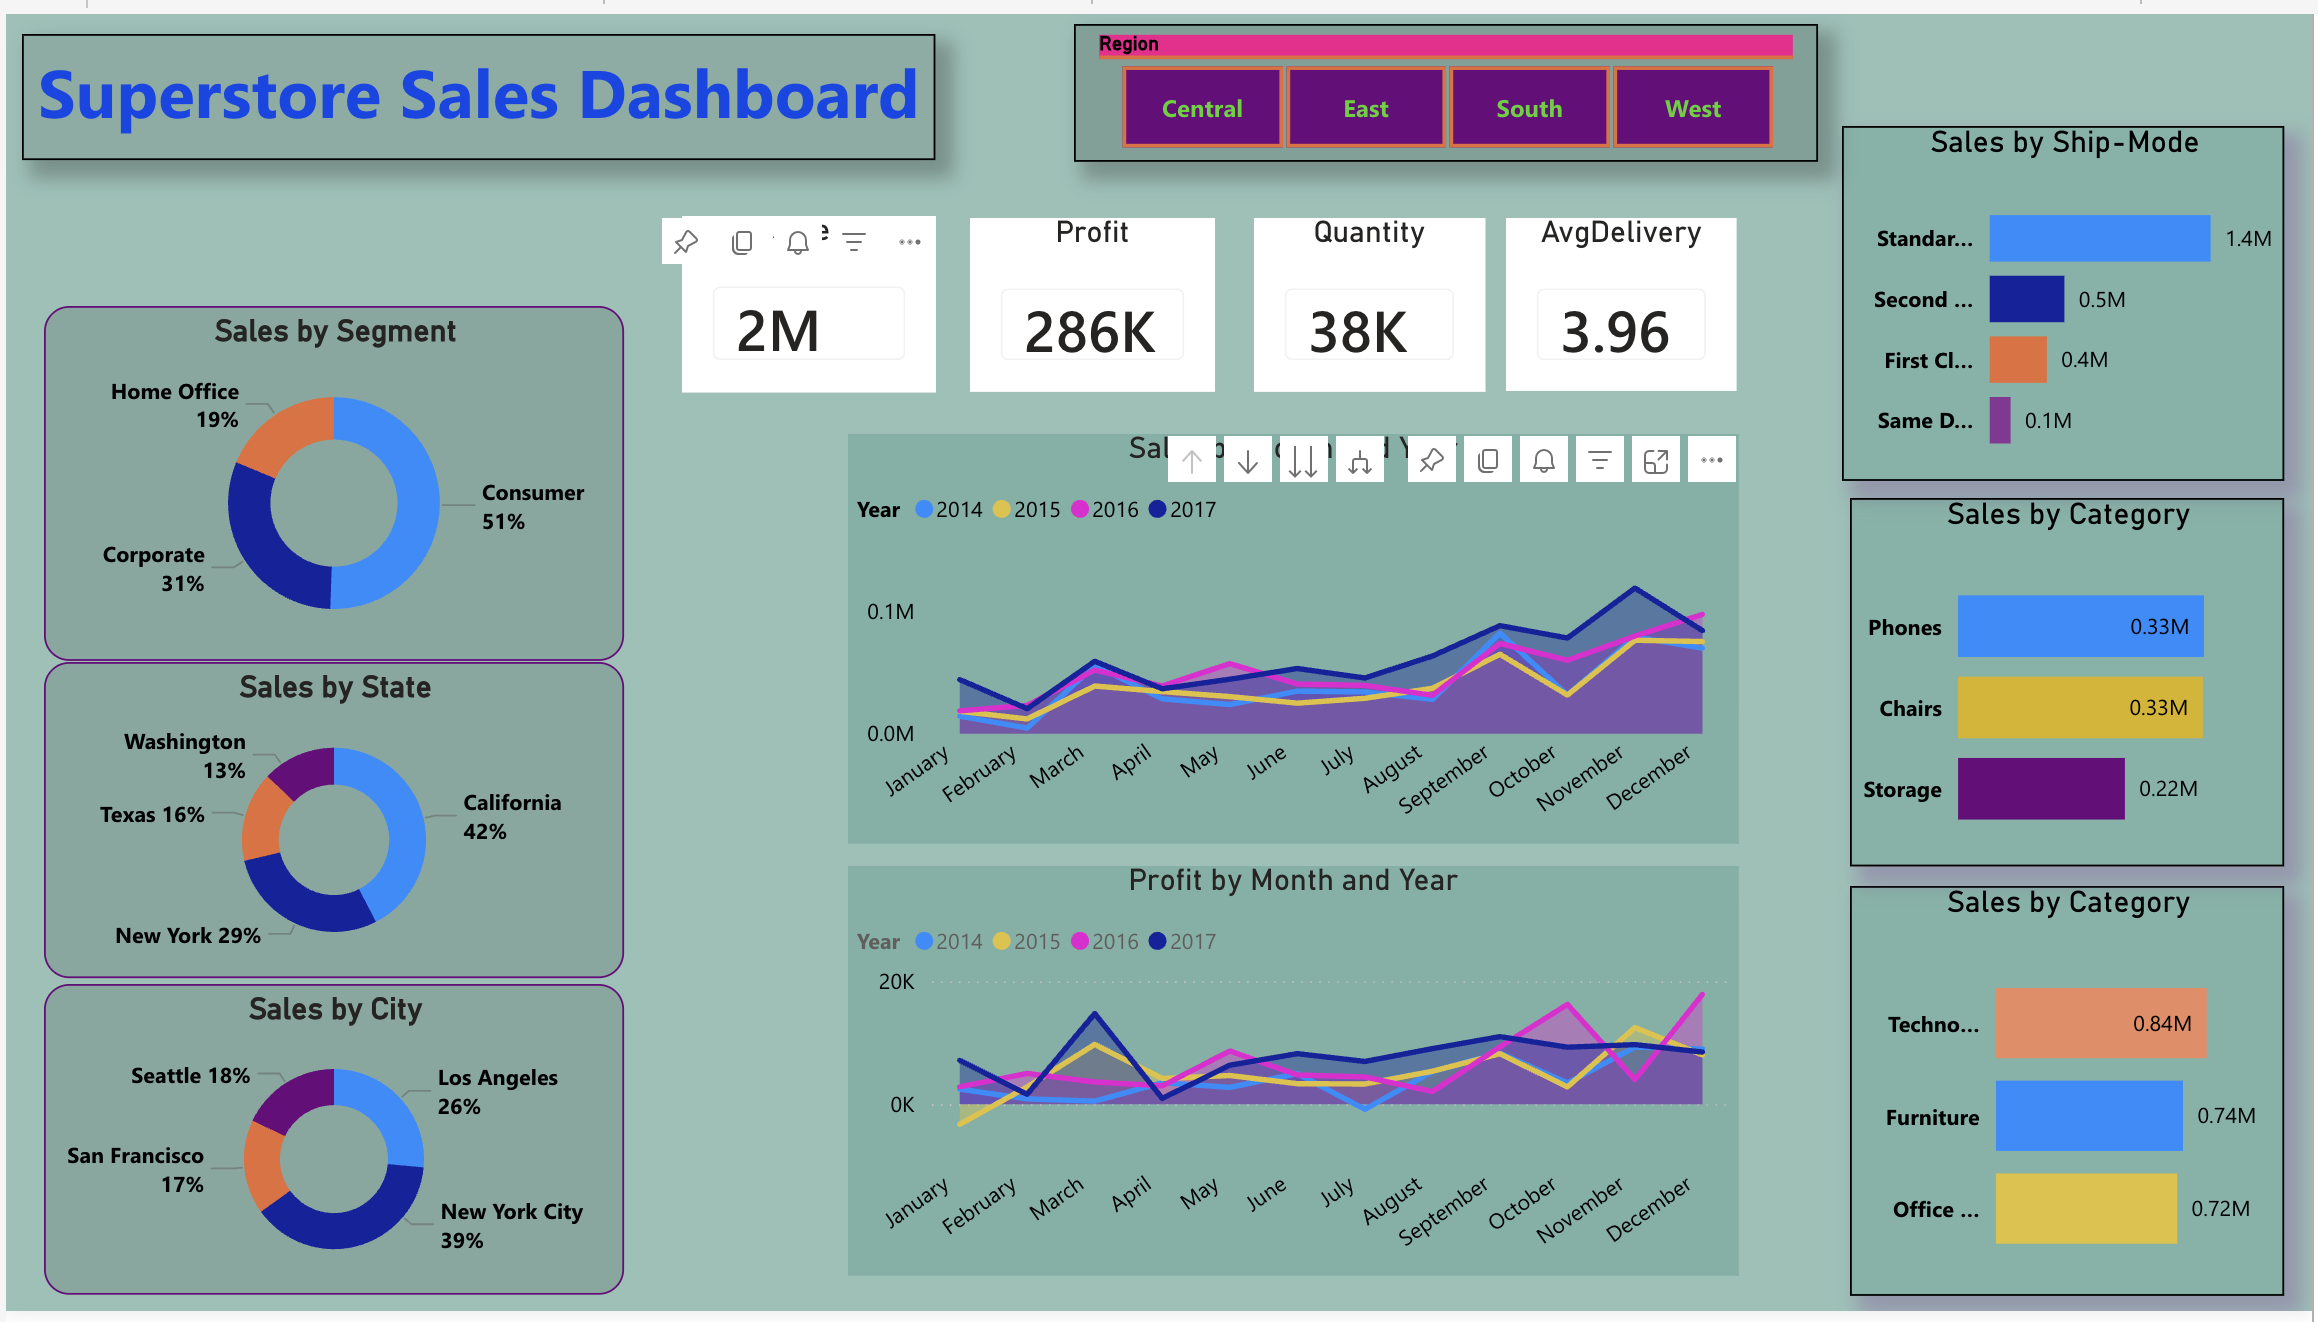

Layout of this report page (visuals, bound fields, positions):
{"tool":"powerbi","page":{"name":"Page 1","canvas":[1280,720],"ordinal":0},"visuals":[{"type":"clusteredBarChart","title":"Sales by Category","fields":{"Category":["Sample - Superstore 1.Category"],"Y":["Sum(Sample - Superstore 1.Sales)"]},"box":[1023.7,483.6,241,227.3],"z":0},{"type":"clusteredBarChart","title":"Sales by Ship-Mode","fields":{"Category":["Sample - Superstore 1.Ship Mode"],"Y":["Sum(Sample - Superstore 1.Sales)"]},"box":[1019.1,62.6,245.6,196.8],"z":1000},{"type":"areaChart","title":"Sales by Month and Year","fields":{"Category":["Sample - Superstore 1.Order Date.Variation.Date Hierarchy.Month","Sample - Superstore 1.Order Date.Variation.Date Hierarchy.Day"],"Y":["Sum(Sample - Superstore 1.Sales)"],"Series":["Sample - Superstore 1.Order Date.Variation.Date Hierarchy.Year"]},"box":[466.8,233.4,494.3,227.3],"z":2000},{"type":"areaChart","title":"Profit by Month and Year","fields":{"Category":["Sample - Superstore 1.Order Date.Variation.Date Hierarchy.Month","Sample - Superstore 1.Order Date.Variation.Date Hierarchy.Day"],"Series":["Sample - Superstore 1.Order Date.Variation.Date Hierarchy.Year"],"Y":["Sum(Sample - Superstore 1.Profit)"]},"box":[466.8,472.9,494.3,227.3],"z":3000},{"type":"clusteredBarChart","title":"Sales by Category","fields":{"Category":["Sample - Superstore 1.Sub-Category"],"Y":["Sum(Sample - Superstore 1.Sales)"]},"box":[1023.7,268.5,241,204.4],"z":4000},{"type":"donutChart","title":"Sales by Segment","fields":{"Series":["Sample - Superstore 1.Segment"],"Y":["Sum(Sample - Superstore 1.Sales)"]},"box":[21.4,161.7,321.9,196.8],"z":5000},{"type":"donutChart","title":"Sales by State","fields":{"Y":["Sum(Sample - Superstore 1.Sales)"],"Series":["Sample - Superstore 1.State"]},"box":[21.4,360,321.9,175.4],"z":6000},{"type":"donutChart","title":"Sales by City","fields":{"Y":["Sum(Sample - Superstore 1.Sales)"],"Series":["Sample - Superstore 1.City"]},"box":[21.4,538.5,321.9,172.4],"z":7000},{"type":"textbox","box":[8.9,11.4,507.2,69.9],"z":8000},{"type":"slicer","fields":{"Values":["Sample - Superstore 1.Region"]},"box":[592.3,5.1,413.1,76.3],"z":9000},{"type":"cardVisual","title":"Sales","fields":{"Data":["Sum(Sample - Superstore 1.Sales)"]},"box":[375,111.9,141.1,97.9],"z":10000},{"type":"cardVisual","title":"Profit","fields":{"Data":["Sum(Sample - Superstore 1.Profit)"]},"box":[535.1,113.1,136,96.6],"z":11000},{"type":"cardVisual","title":"Quantity","fields":{"Data":["Sum(Sample - Superstore 1.Quantity)"]},"box":[692.8,113.1,128.4,96.6],"z":12000},{"type":"cardVisual","title":"AvgDelivery","fields":{"Data":["Avg(Sample - Superstore 1.AvgDelivery)"]},"box":[833,112.9,128.2,96.1],"z":13000}]}

Visuals, with their boxes in screenshot pixels (x1, y1, x2, y2), scaled from the page's 1280x720 canvas onto the 2318x1322 screenshot:
"Sales by Category" clusteredBarChart: detection(1854, 888, 2290, 1305)
"Sales by Ship-Mode" clusteredBarChart: detection(1846, 115, 2290, 476)
"Sales by Month and Year" areaChart: detection(845, 429, 1740, 846)
"Profit by Month and Year" areaChart: detection(845, 868, 1740, 1286)
"Sales by Category" clusteredBarChart: detection(1854, 493, 2290, 868)
"Sales by Segment" donutChart: detection(39, 297, 622, 658)
"Sales by State" donutChart: detection(39, 661, 622, 983)
"Sales by City" donutChart: detection(39, 989, 622, 1305)
textbox: detection(16, 21, 935, 149)
slicer - Sample - Superstore 1.Region: detection(1073, 9, 1821, 149)
"Sales" cardVisual: detection(679, 205, 935, 385)
"Profit" cardVisual: detection(969, 208, 1215, 385)
"Quantity" cardVisual: detection(1255, 208, 1487, 385)
"AvgDelivery" cardVisual: detection(1509, 207, 1741, 384)
